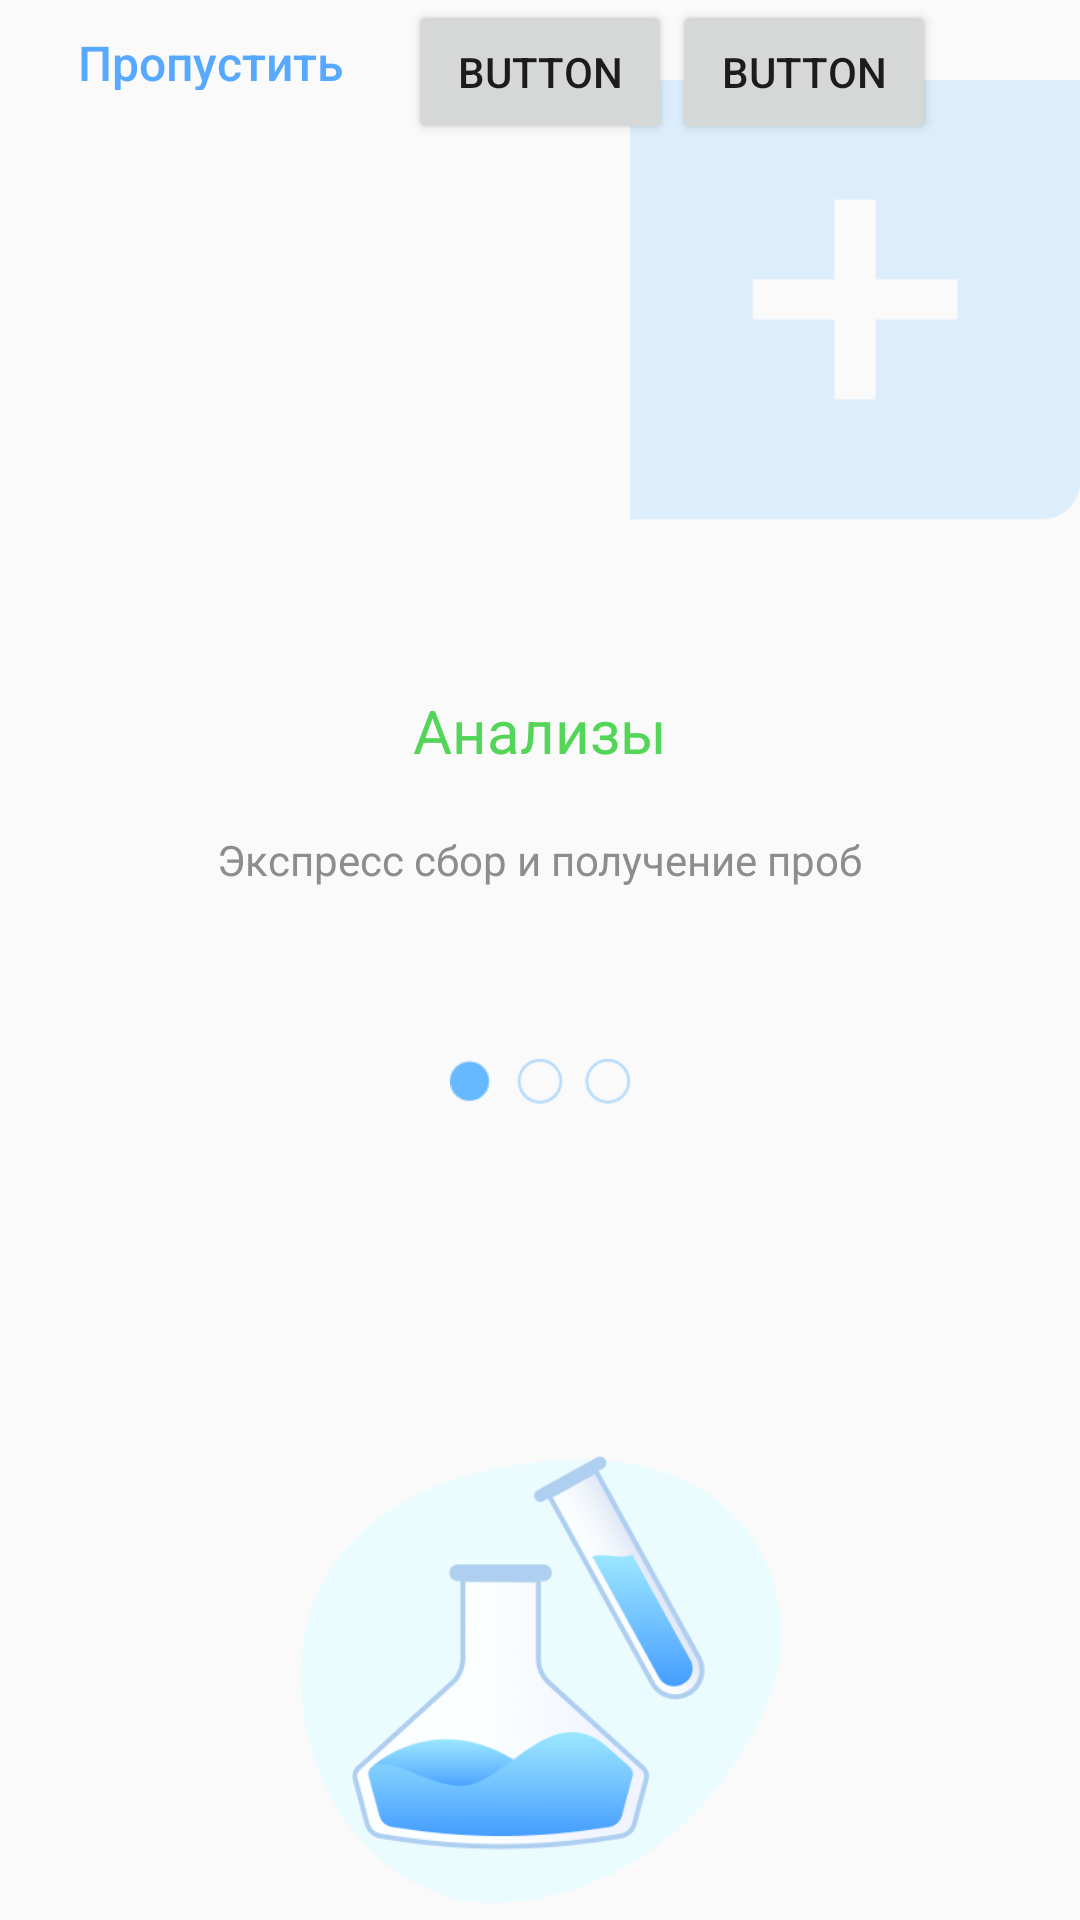

Screen size 1080px×1920px. Icon name, then its center in pixels as [x,y]:
tochki: [540,1081]
